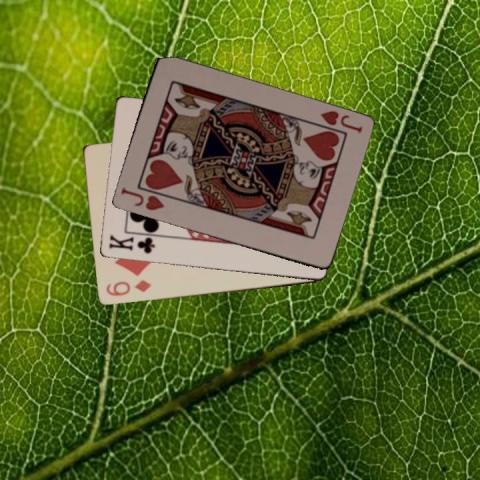6d: (102, 277, 152, 298)
Jh: (117, 184, 166, 212), (317, 107, 364, 136)
Kc: (105, 232, 156, 255)
